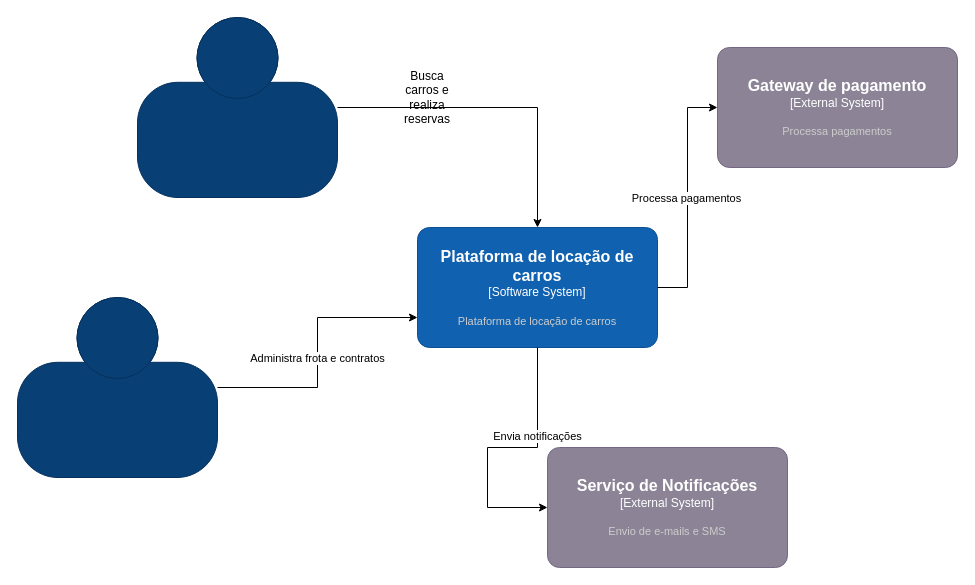
Some shapes in this 975 by 585 pixel diagram are drawn without their labels. Each missing label, with the centre of its shape:
"Administrador [Person] Gerencia frota, preços e contratos" belongs at point (117, 387).
"Cliente [Person] Aluga carros" belongs at point (237, 107).
